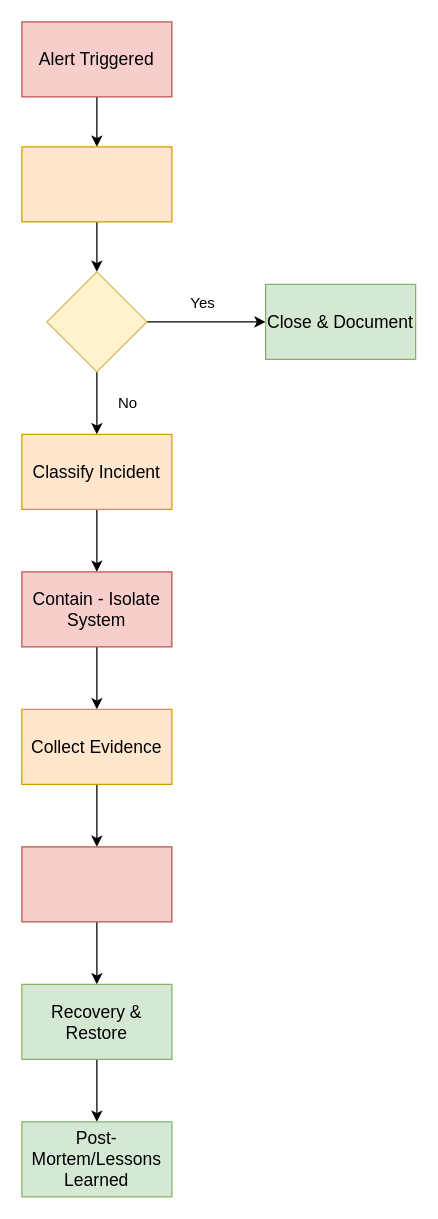
This 438x1219 diagram has some shape labels left out. Each missing label, with the centre of its shape:
Eradicate Threat: the point at 96,884
False Positive: the point at 96,321
Triage and Prioritize: the point at 96,184
